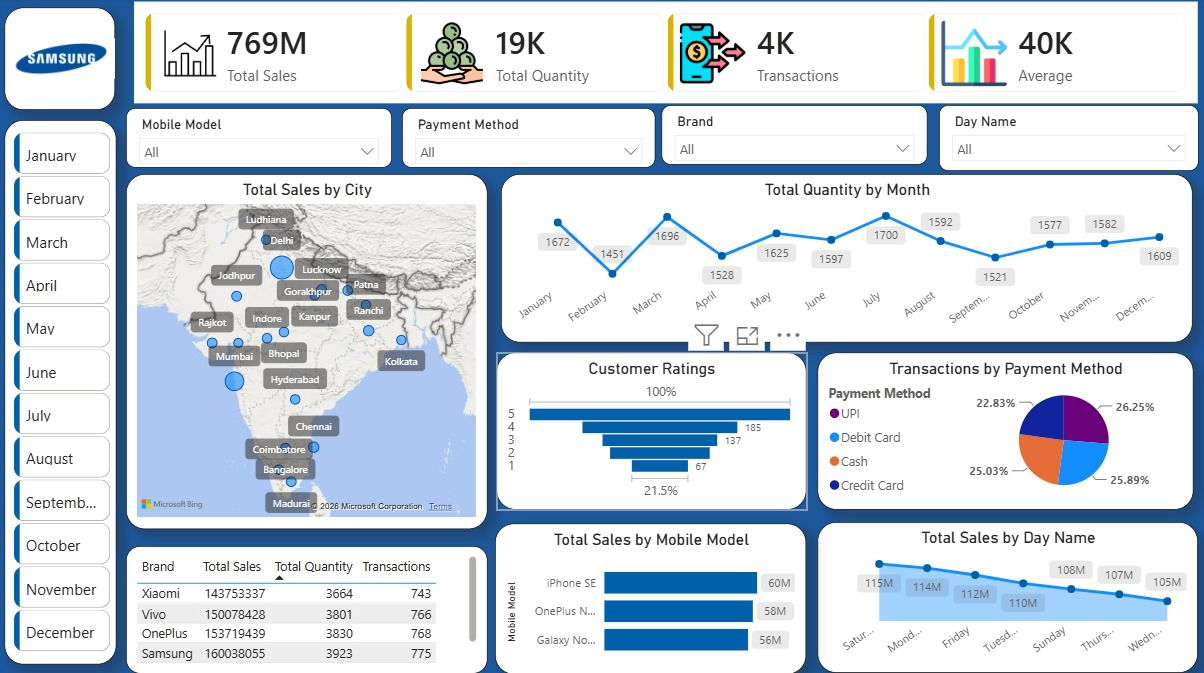

Layout of this report page (visuals, bound fields, positions):
{"tool":"powerbi","page":{"name":"Page 1","canvas":[1280,720],"ordinal":0},"visuals":[{"type":"shape","box":[8.6,10.3,117.2,108.6],"z":0},{"type":"image","box":[10.3,0,113.8,131],"z":1000},{"type":"shape","box":[8.6,131,119,577.6],"z":2000},{"type":"advancedSlicerVisual","fields":{"Values":["Sheet1.Date.Variation.Date Hierarchy.Month"]},"box":[12.1,137.9,112.1,570.7],"z":3000},{"type":"cardVisual","fields":{"Data":["Sales_Data.Total Sales","Sales_Data.Total Quantity","Sales_Data.Transactions","Sales_Data.Average"]},"box":[139.7,5.2,1139.7,113.8],"z":4000},{"type":"map","fields":{"Size":["Sales_Data.Total Sales"],"Category":["Sales_Data.City"]},"box":[136.7,188.3,383.3,376.7],"z":5000},{"type":"lineChart","fields":{"Y":["Sales_Data.Total Quantity"],"Category":["Sales_Data.Date.Variation.Date Hierarchy.Month","Sales_Data.Date.Variation.Date Hierarchy.Day"]},"box":[535,188.3,733.3,178.3],"z":6000},{"type":"tableEx","fields":{"Values":["Sales_Data.Brand","Sales_Data.Total Sales","Sales_Data.Total Quantity","Sales_Data.Transactions"]},"box":[136.7,581.7,383.3,135],"z":9001},{"type":"funnel","title":"Customer Ratings","fields":{"Category":["Sales_Data.Customer Ratings"],"Y":["CountNonNull(Sales_Data.Customer Ratings)"]},"box":[530,376.7,328.3,166.7],"z":9002},{"type":"areaChart","fields":{"Category":["Sales_Data.Day Name"],"Y":["Sales_Data.Total Sales"]},"box":[870,556.7,403.3,160],"z":9003},{"type":"clusteredBarChart","fields":{"Category":["Sales_Data.Mobile Model"],"Y":["Sales_Data.Total Sales"]},"box":[528.3,558.3,330,160],"z":9004},{"type":"slicer","fields":{"Values":["Sales_Data.Day Name"]},"box":[998.3,115,275,70],"z":9005},{"type":"slicer","fields":{"Values":["Sales_Data.Brand"]},"box":[705,115,281.7,63.3],"z":9006},{"type":"slicer","fields":{"Values":["Sales_Data.Payment Method"]},"box":[430,118.3,268.3,63.3],"z":9007},{"type":"slicer","fields":{"Values":["Sales_Data.Mobile Model"]},"box":[136.7,118.3,281.7,63.3],"z":9008},{"type":"pieChart","fields":{"Category":["Sales_Data.Payment Method"],"Y":["Sales_Data.Transactions"]},"box":[870,376.7,398.3,166.7],"z":9009}]}

Visuals, with their boxes in screenshot pixels (x1, y1, x2, y2), scaled from the page's 1280x720 canvas onto the 1204x673 screenshot:
shape: (8, 10, 118, 111)
image: (10, 0, 117, 122)
shape: (8, 122, 120, 662)
advancedSlicerVisual - Sheet1.Date.Variation.Date Hierarchy.Month: (11, 129, 117, 662)
cardVisual - Sales_Data.Total Sales x Sales_Data.Total Quantity: (131, 5, 1203, 111)
map - Sales_Data.Total Sales x Sales_Data.City: (129, 176, 489, 528)
lineChart - Sales_Data.Total Quantity x Sales_Data.Date.Variation.Date Hierarchy.Month: (503, 176, 1193, 343)
tableEx - Sales_Data.Brand x Sales_Data.Total Sales: (129, 544, 489, 670)
"Customer Ratings" funnel: (499, 352, 807, 508)
areaChart - Sales_Data.Day Name x Sales_Data.Total Sales: (818, 520, 1198, 670)
clusteredBarChart - Sales_Data.Mobile Model x Sales_Data.Total Sales: (497, 522, 807, 671)
slicer - Sales_Data.Day Name: (939, 107, 1198, 173)
slicer - Sales_Data.Brand: (663, 107, 928, 167)
slicer - Sales_Data.Payment Method: (404, 111, 657, 170)
slicer - Sales_Data.Mobile Model: (129, 111, 394, 170)
pieChart - Sales_Data.Payment Method x Sales_Data.Transactions: (818, 352, 1193, 508)
